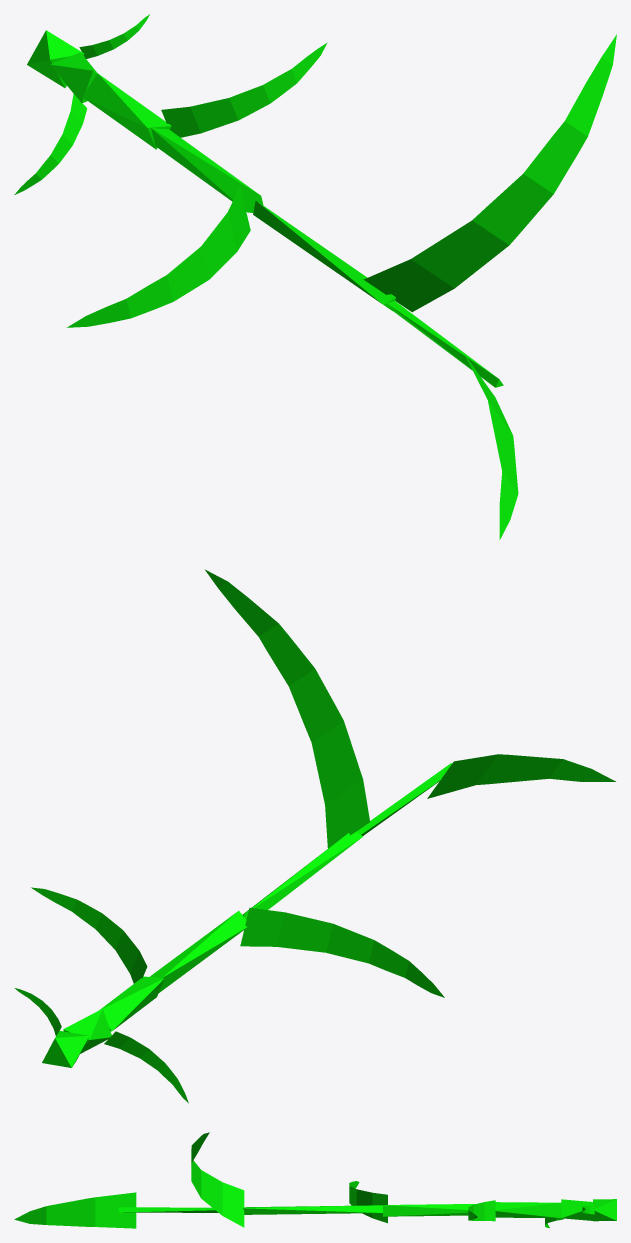
Rendered from usm_10_Beer_2018-08-09_3.obj.
The picture shows the model from 3 angles, top to bottom: view 1: azimuth 30°, elevation 25°; view 2: azimuth 150°, elevation 25°; view 3: azimuth 270°, elevation 25°; orthographic projection. The views are drawn at different scales.
Visible parts, largest first — view 1: vid_12, vid_10, vid_8, vid_9, vid_7, vid_14, vid_11, vid_6, vid_3, vid_13, vid_5, vid_4; view 2: vid_12, vid_10, vid_14, vid_8, vid_9, vid_7, vid_11, vid_6, vid_3, vid_5, vid_13; view 3: vid_14, vid_12, vid_11, vid_7, vid_9, vid_10, vid_13, vid_5, vid_3, vid_8.
Boxes of the visible parts, x1,y1,x2,y2 form: vid_12: (363, 34, 616, 312); vid_10: (66, 186, 250, 327); vid_8: (161, 42, 327, 137); vid_9: (151, 128, 263, 212); vid_7: (82, 73, 171, 149); vid_14: (465, 355, 518, 539); vid_11: (253, 201, 395, 310); vid_6: (14, 94, 87, 194); vid_3: (27, 30, 84, 87); vid_13: (387, 301, 503, 387); vid_5: (50, 52, 97, 103); vid_4: (79, 14, 149, 58); vid_12: (205, 569, 369, 848); vid_10: (240, 907, 444, 997); vid_14: (427, 754, 615, 798); vid_8: (31, 887, 147, 983); vid_9: (150, 911, 247, 992); vid_7: (100, 976, 164, 1031); vid_11: (242, 832, 363, 919); vid_6: (104, 1031, 188, 1103); vid_3: (42, 1031, 89, 1067); vid_5: (63, 1008, 111, 1053); vid_13: (356, 763, 451, 835); vid_14: (14, 1192, 136, 1228); vid_12: (191, 1132, 244, 1227); vid_11: (242, 1205, 382, 1214); vid_7: (495, 1202, 561, 1218); vid_9: (383, 1204, 475, 1216); vid_10: (349, 1181, 387, 1223); vid_13: (118, 1207, 218, 1212); vid_5: (561, 1199, 592, 1220); vid_3: (593, 1199, 616, 1221); vid_8: (468, 1200, 495, 1221).
Bounding box in the file's own units: 41.49 × 30.35 × 95.48.
